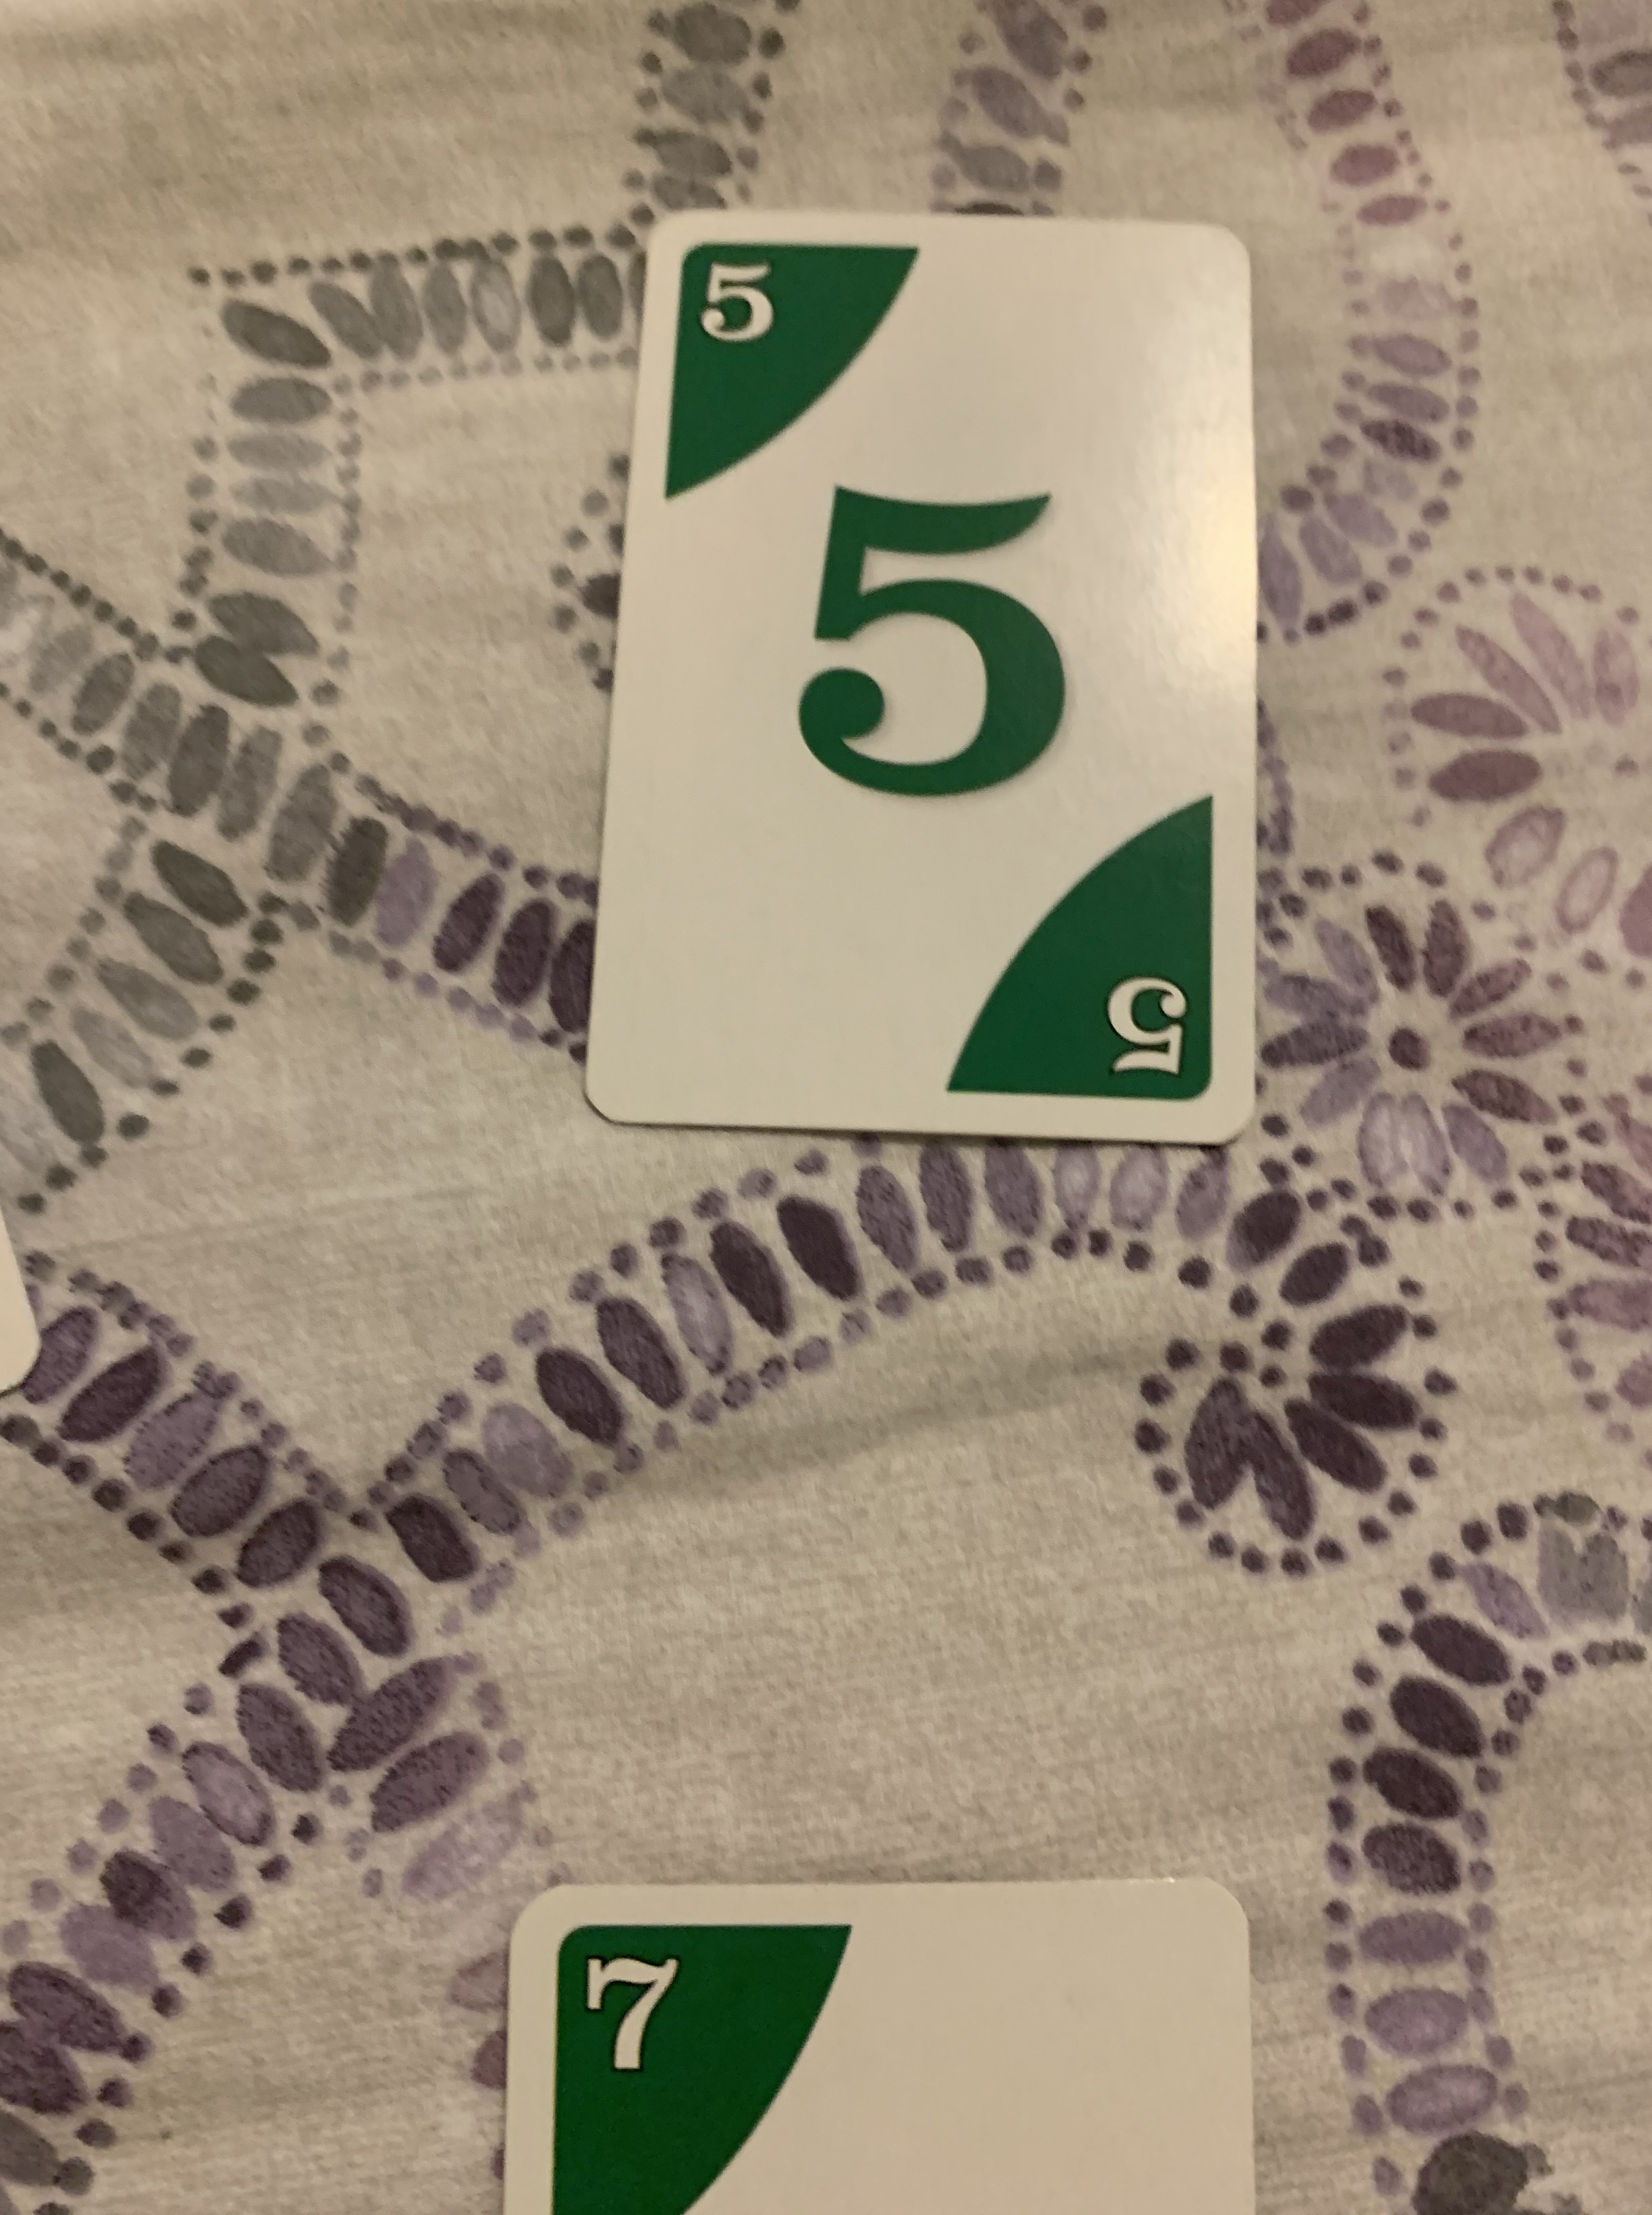five: (571, 187, 1267, 1146)
